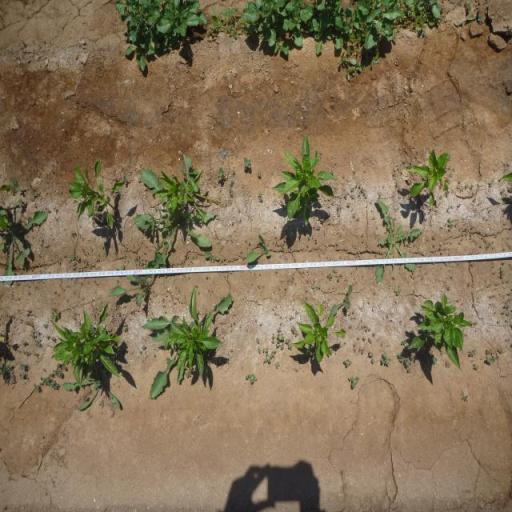plant: (49, 298, 123, 383), (270, 132, 337, 224), (408, 292, 472, 370), (171, 288, 222, 376), (66, 157, 123, 230), (293, 298, 346, 361), (405, 148, 452, 208), (157, 165, 213, 215)
weed: (131, 168, 221, 271), (113, 0, 207, 72), (238, 0, 314, 55), (374, 198, 422, 282), (141, 314, 184, 400), (61, 364, 126, 416), (0, 209, 46, 282), (109, 251, 166, 309), (356, 0, 398, 50), (394, 0, 444, 39), (311, 0, 345, 55), (336, 30, 364, 81), (206, 4, 243, 38), (244, 233, 272, 263), (329, 285, 353, 315), (0, 363, 15, 386), (9, 174, 21, 196), (202, 251, 219, 263), (348, 375, 360, 390), (382, 350, 392, 368), (304, 344, 316, 358), (486, 354, 500, 365), (216, 166, 226, 180), (244, 374, 258, 384), (467, 14, 483, 22), (243, 156, 252, 170), (427, 356, 438, 367), (48, 378, 58, 390), (463, 0, 472, 13), (51, 307, 59, 321), (49, 370, 63, 378), (402, 356, 410, 370), (11, 197, 22, 207), (69, 254, 79, 265), (361, 324, 371, 334), (446, 216, 456, 226), (342, 358, 352, 367), (276, 332, 284, 342), (311, 283, 321, 291), (470, 348, 478, 358), (499, 265, 505, 278), (269, 349, 276, 360), (40, 376, 48, 385), (376, 188, 382, 200), (394, 287, 402, 296), (30, 189, 40, 196), (358, 346, 365, 356), (396, 352, 403, 362), (472, 362, 479, 372), (360, 186, 367, 196), (56, 362, 64, 370), (326, 272, 333, 281), (505, 304, 512, 313), (24, 320, 34, 326), (35, 338, 41, 348), (122, 323, 128, 333), (264, 354, 270, 364), (290, 324, 296, 334), (184, 370, 191, 378), (367, 350, 374, 358), (456, 184, 464, 191), (18, 374, 28, 379), (258, 192, 263, 202), (82, 395, 89, 402), (445, 164, 452, 171), (20, 363, 26, 371), (256, 170, 262, 178), (262, 346, 268, 354), (274, 361, 280, 369), (286, 343, 292, 351), (288, 314, 294, 322), (350, 186, 354, 198), (50, 336, 57, 342), (274, 342, 280, 349), (20, 338, 25, 346), (229, 186, 233, 196), (280, 342, 284, 352), (68, 230, 74, 236), (28, 332, 34, 338), (42, 322, 48, 328), (23, 350, 29, 356), (284, 338, 290, 344), (332, 268, 338, 274), (400, 339, 406, 345), (448, 172, 454, 178), (484, 349, 491, 354), (498, 347, 503, 354), (35, 384, 39, 392), (368, 336, 372, 344), (411, 353, 415, 361), (485, 244, 490, 250), (464, 183, 470, 188), (255, 336, 259, 343), (141, 345, 146, 350), (115, 266, 119, 272), (272, 333, 274, 345), (295, 330, 298, 338), (370, 358, 374, 364), (372, 332, 376, 338), (338, 273, 342, 279), (346, 202, 350, 208), (490, 180, 494, 186), (123, 175, 127, 180), (230, 179, 234, 184), (362, 336, 366, 341), (36, 330, 39, 336), (258, 348, 261, 354), (336, 276, 339, 282), (122, 263, 124, 271), (356, 337, 360, 341), (54, 206, 56, 212), (349, 324, 352, 328), (46, 335, 48, 340), (278, 327, 280, 332), (232, 170, 234, 174), (196, 284, 198, 288)
